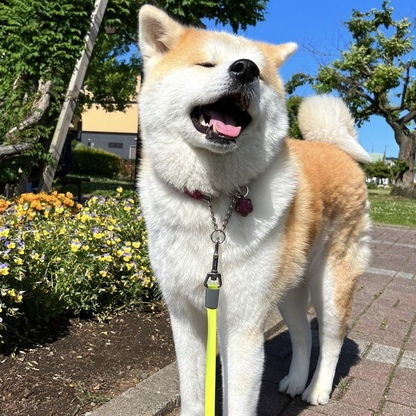akita: (132, 1, 381, 416)
